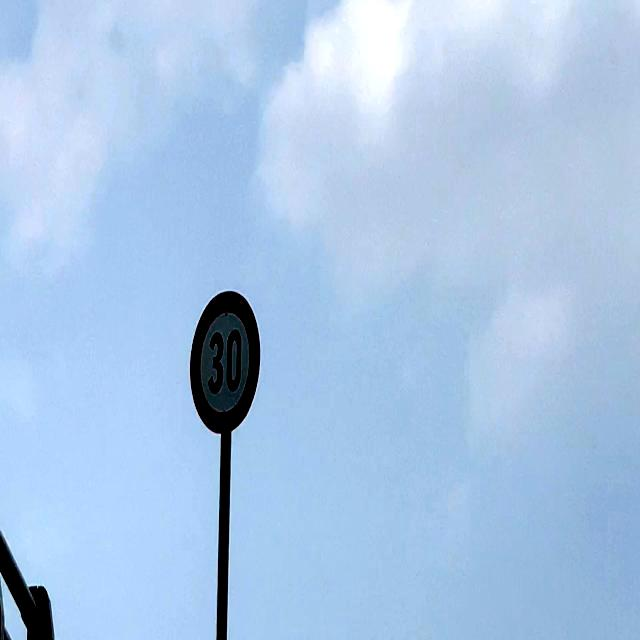Toc do toi da cho phep: (188, 289, 262, 435)
